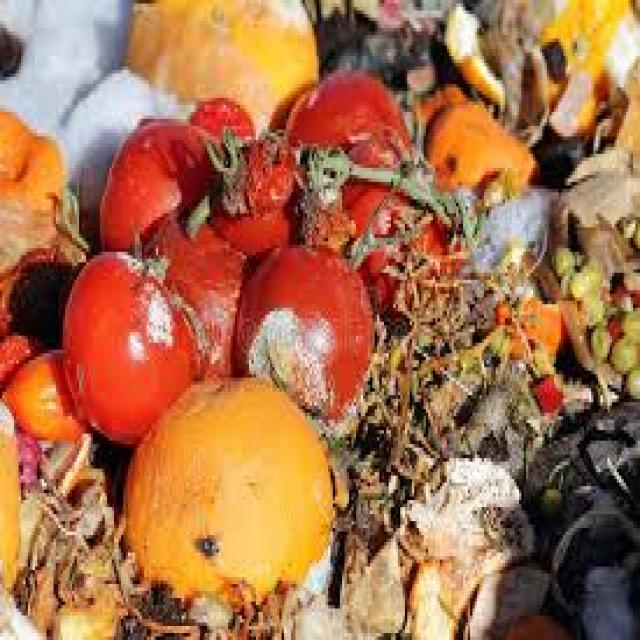organic waste: (119, 371, 328, 605), (58, 248, 210, 444), (279, 56, 419, 245), (230, 238, 375, 420), (307, 136, 459, 301), (124, 0, 316, 126), (479, 0, 637, 136), (144, 203, 252, 378), (405, 444, 531, 577), (96, 112, 221, 245), (414, 94, 545, 210), (0, 108, 86, 270), (210, 122, 300, 248), (5, 336, 89, 448), (340, 521, 410, 637), (0, 241, 74, 346), (398, 556, 491, 637), (38, 440, 102, 552), (440, 0, 503, 101), (458, 556, 542, 630), (282, 546, 344, 636), (52, 560, 124, 636), (575, 552, 638, 636), (494, 287, 558, 367), (0, 322, 51, 395), (19, 532, 58, 626), (0, 398, 19, 588), (186, 94, 252, 144), (412, 77, 468, 129), (508, 608, 594, 636), (14, 416, 44, 490), (40, 433, 79, 482), (528, 374, 566, 413), (608, 336, 636, 370), (544, 242, 575, 270), (614, 301, 638, 336), (607, 280, 633, 311), (568, 259, 591, 294), (575, 287, 598, 322), (589, 314, 607, 356), (621, 357, 638, 395), (540, 482, 563, 510), (584, 252, 605, 280), (626, 273, 638, 308), (559, 266, 570, 294), (601, 304, 612, 332)
